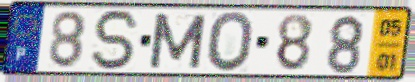8: (324, 12, 366, 76), (47, 8, 89, 71), (275, 12, 315, 73)
M: (146, 11, 209, 71)
O: (205, 9, 256, 74)
S: (90, 7, 143, 73)
